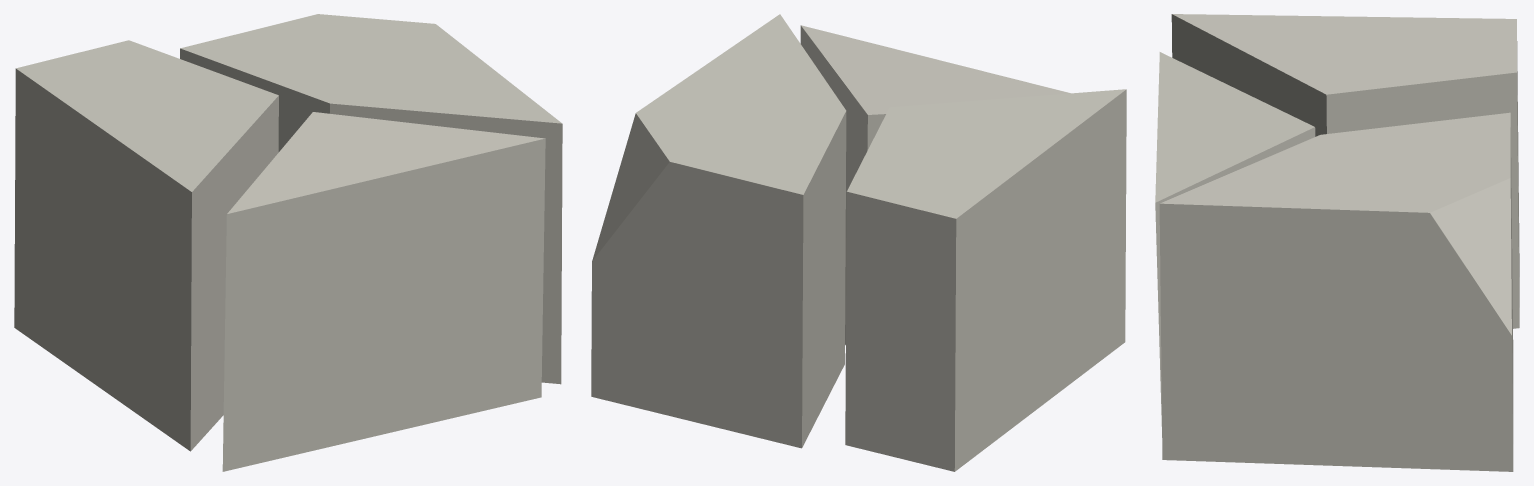
File: Rock_Square_crk_s_03.fbx
3 renders of one model, left to right at view 1: azimuth 30°, elevation 25°; view 2: azimuth 150°, elevation 25°; view 3: azimuth 270°, elevation 25°, orthographic. The views are drawn at different scales.
Parts seen in each view (by area): view 1: Rock_Square_crk_s_03; view 2: Rock_Square_crk_s_03; view 3: Rock_Square_crk_s_03.
Boxes of the visible parts, left/top/right/bottom form: Rock_Square_crk_s_03: left=14, top=14, right=562, bottom=471; Rock_Square_crk_s_03: left=591, top=14, right=1126, bottom=471; Rock_Square_crk_s_03: left=1155, top=14, right=1519, bottom=471.
Size of the model in its own units: 48.17 by 34.74 by 40.96.
